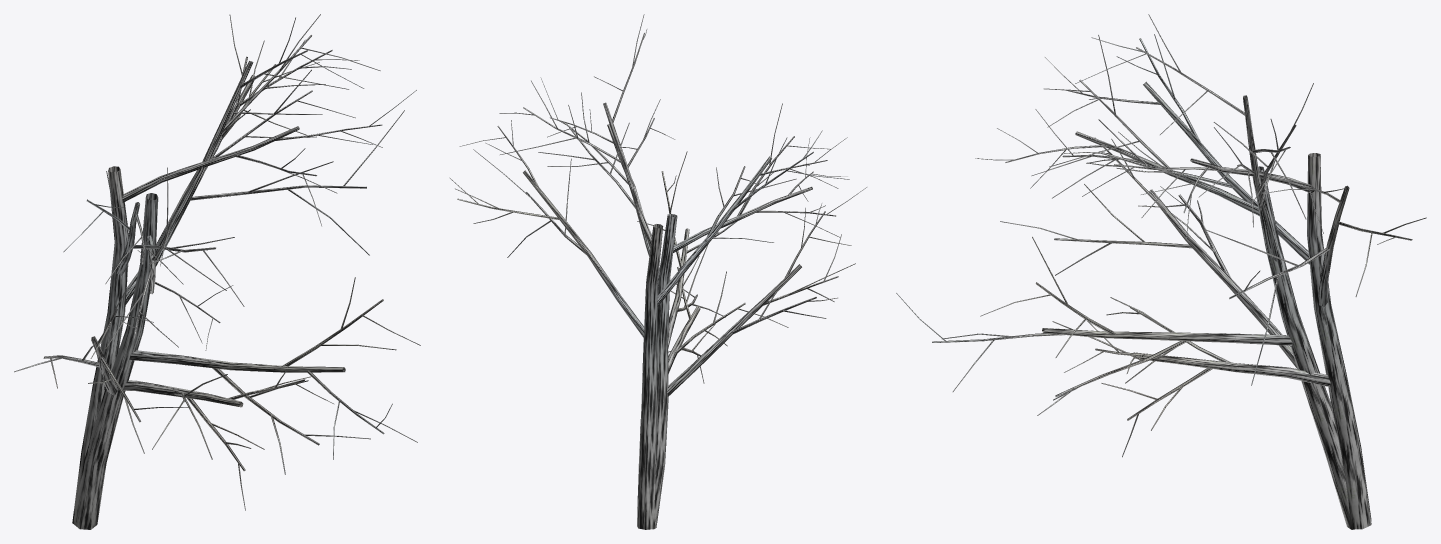
Rendered from acacia_bark_l0.gltf.
3 renders of one model, left to right at view 1: azimuth 30°, elevation 25°; view 2: azimuth 150°, elevation 25°; view 3: azimuth 270°, elevation 25°, orthographic. The views are drawn at different scales.
Parts seen in each view (by area): view 1: acacia_bark_l0; view 2: acacia_bark_l0; view 3: acacia_bark_l0.
Part boxes in pixels (<box>): acacia_bark_l0: <box>14,14,420,529</box>; acacia_bark_l0: <box>449,14,866,529</box>; acacia_bark_l0: <box>896,14,1426,529</box>.
Size of the model in its own units: 6.83 by 8.63 by 7.34.
Materials: 1 (1 with a texture image).
